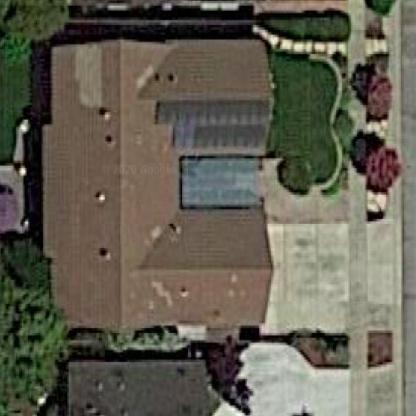solar_panel: (151, 93, 273, 152)
